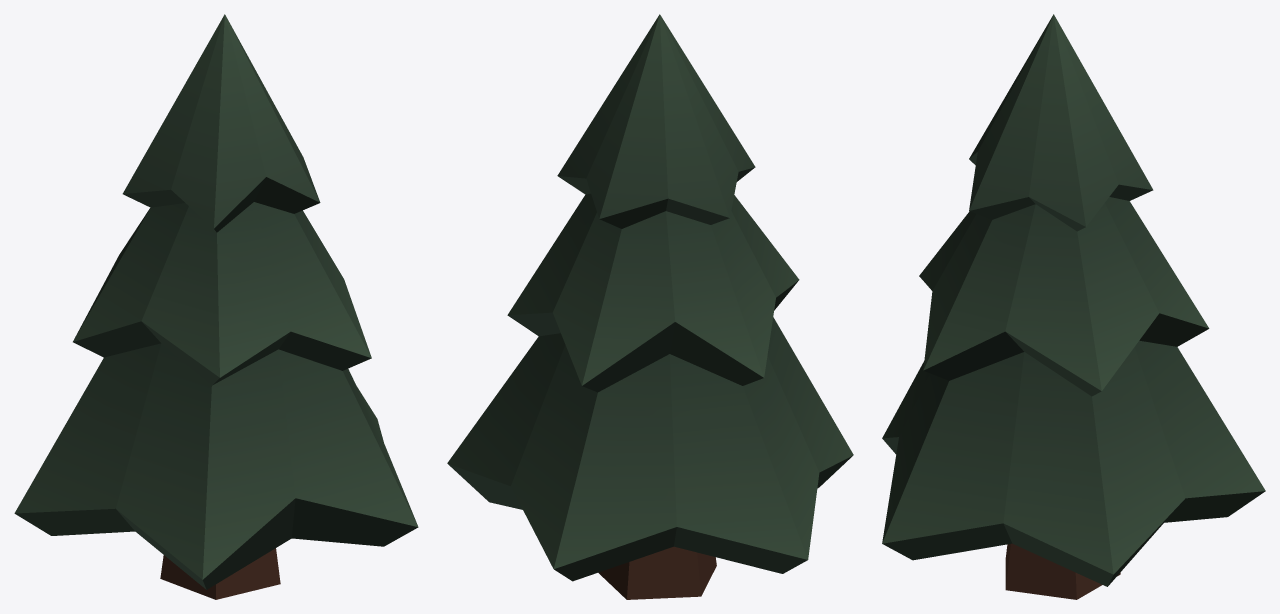
File: treeSmallMedium.glb
3 views of the same model, side by side, from view 1: azimuth 30°, elevation 25°; view 2: azimuth 150°, elevation 25°; view 3: azimuth 270°, elevation 25° (orthographic).
Visible parts, largest first — view 1: TreeSmallMedium; view 2: TreeSmallMedium; view 3: TreeSmallMedium.
Boxes of the visible parts, bbox=[...] form: TreeSmallMedium: bbox=[14, 14, 418, 599]; TreeSmallMedium: bbox=[447, 14, 853, 599]; TreeSmallMedium: bbox=[882, 14, 1265, 599].
Size of what is drawn, in the model's own units: 1.66 by 2.46 by 1.53.
Materials: 1 (1 with a texture image).
